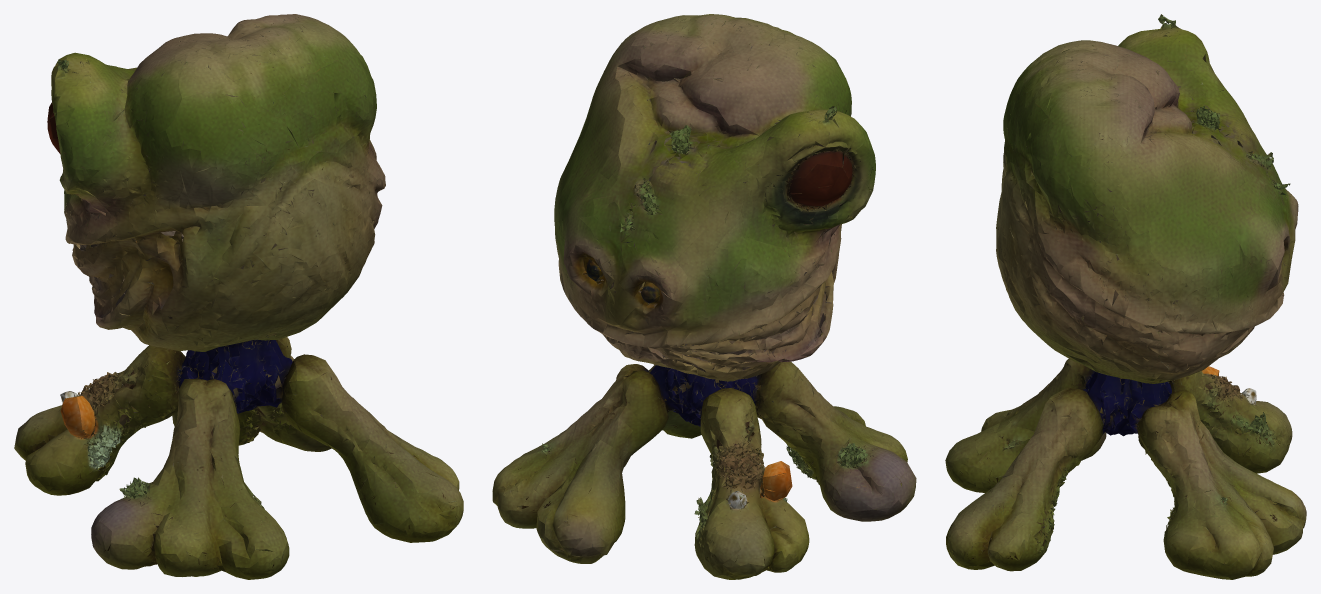
The picture shows the model from 3 angles, left to right: view 1: azimuth 30°, elevation 25°; view 2: azimuth 150°, elevation 25°; view 3: azimuth 270°, elevation 25°; orthographic projection. The views are drawn at different scales.
Visible parts, largest first — view 1: world; view 2: world; view 3: world.
Boxes of the visible parts, <box> form: world: <box>14,14,463,579</box>; world: <box>492,14,916,579</box>; world: <box>945,14,1306,579</box>.
Size of the model in its own units: 0.7094 by 0.9997 by 0.7139.
Materials: 1 (1 with a texture image).
